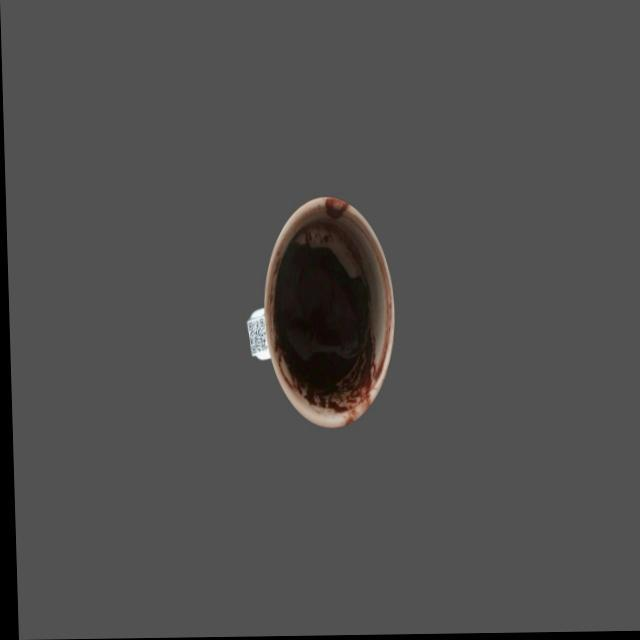cup: (240, 187, 399, 435)
